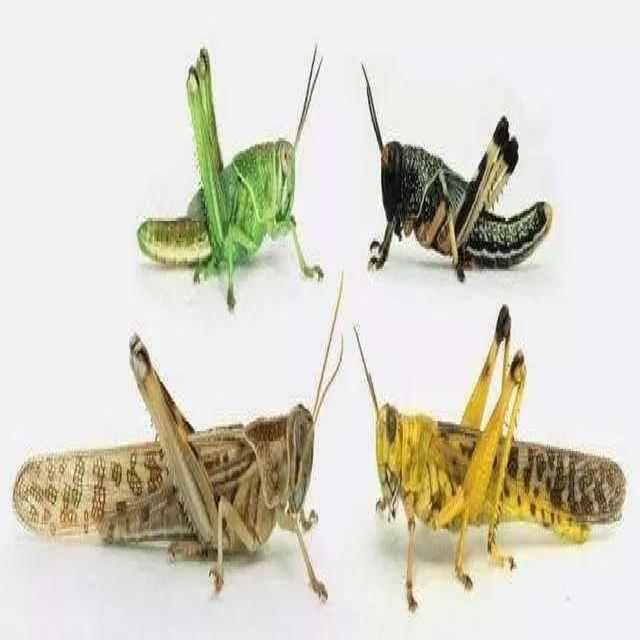ZhaMeng: (4, 327, 332, 612), (362, 322, 630, 603), (116, 36, 334, 299), (362, 63, 560, 282)
